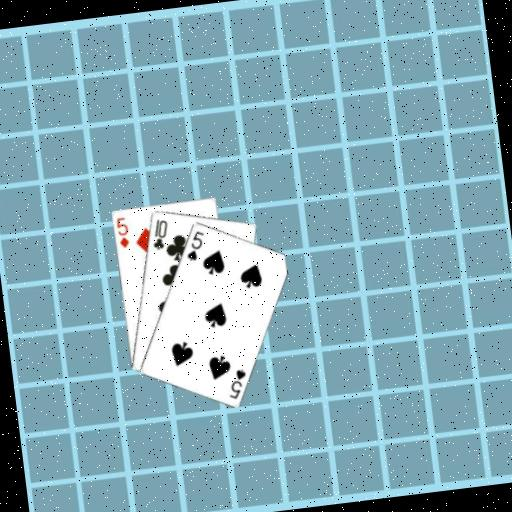10C: (147, 215, 172, 252)
5D: (112, 214, 132, 250)
5S: (181, 227, 209, 263), (223, 366, 251, 401)
